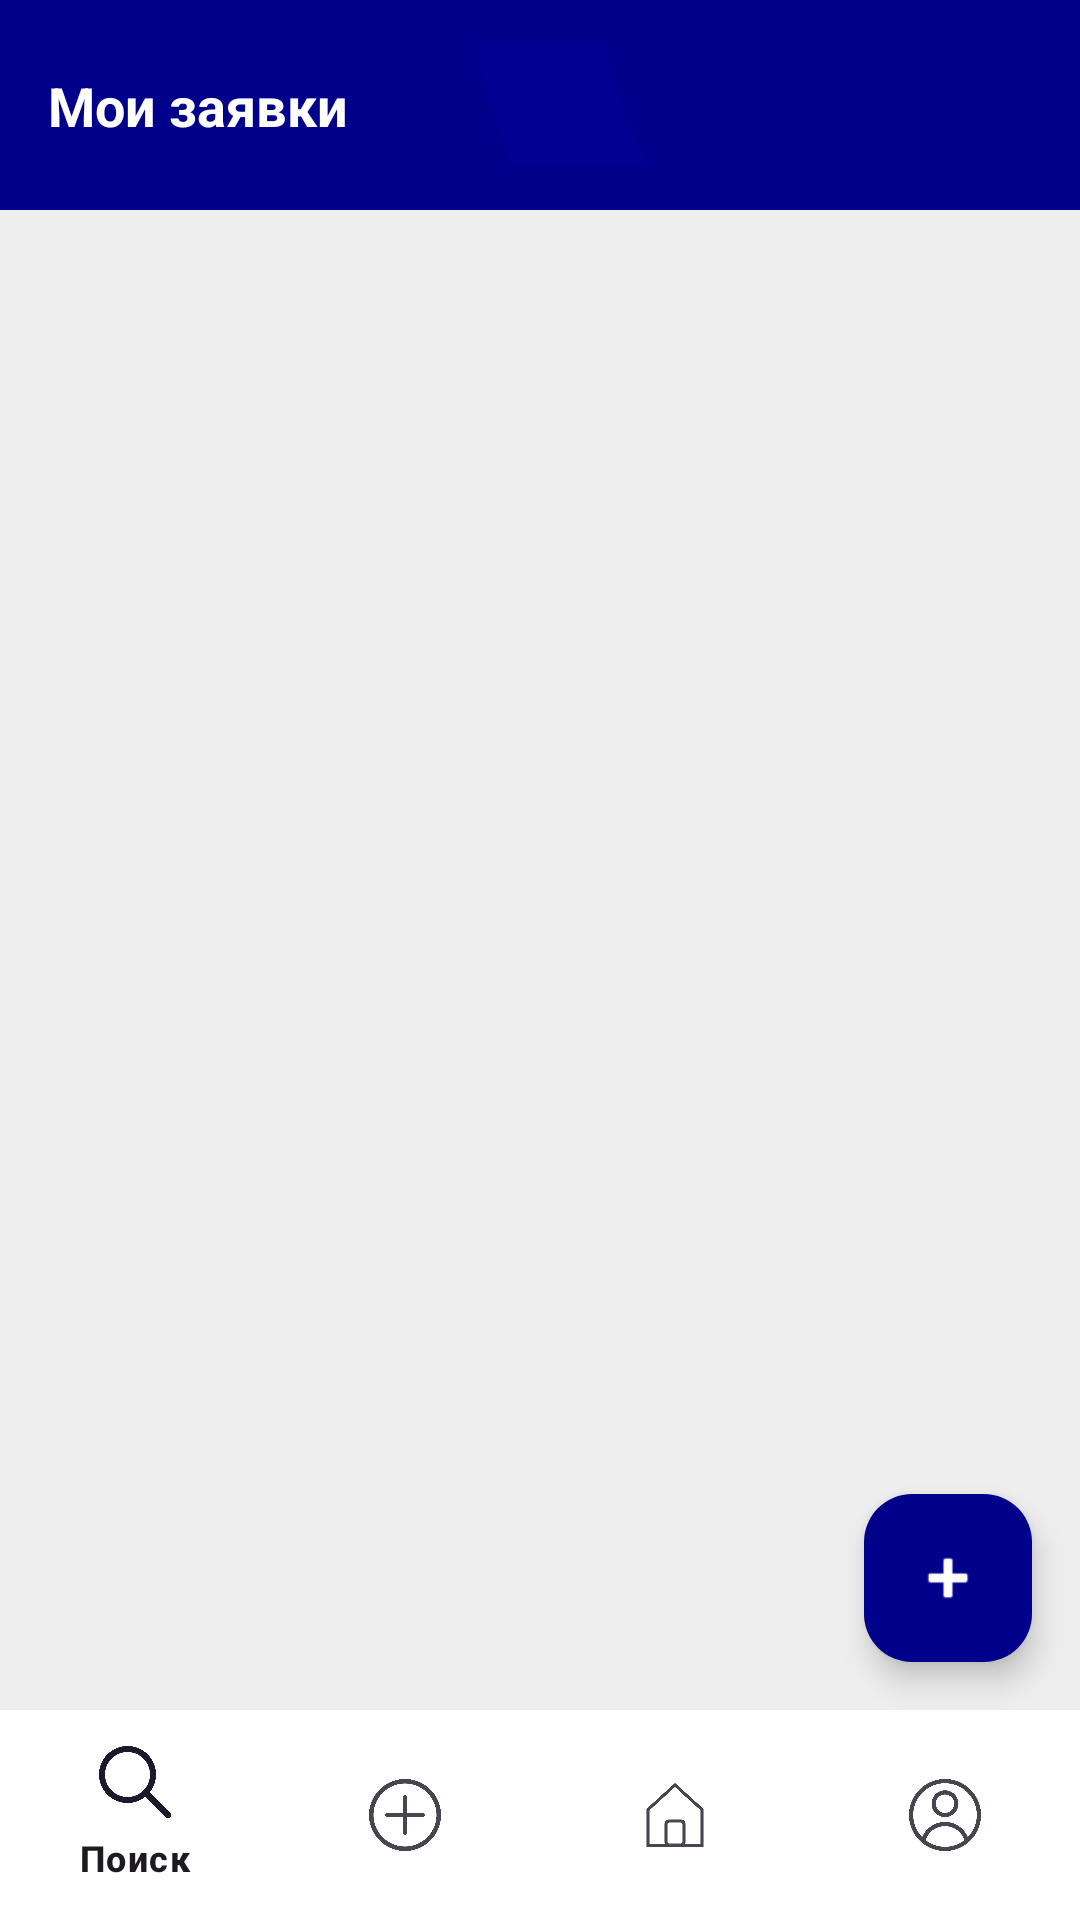

Icon click points for this 1080px x 1920px phone screenshot, format (x=x, y=y):
add: (x=948, y=1578)
